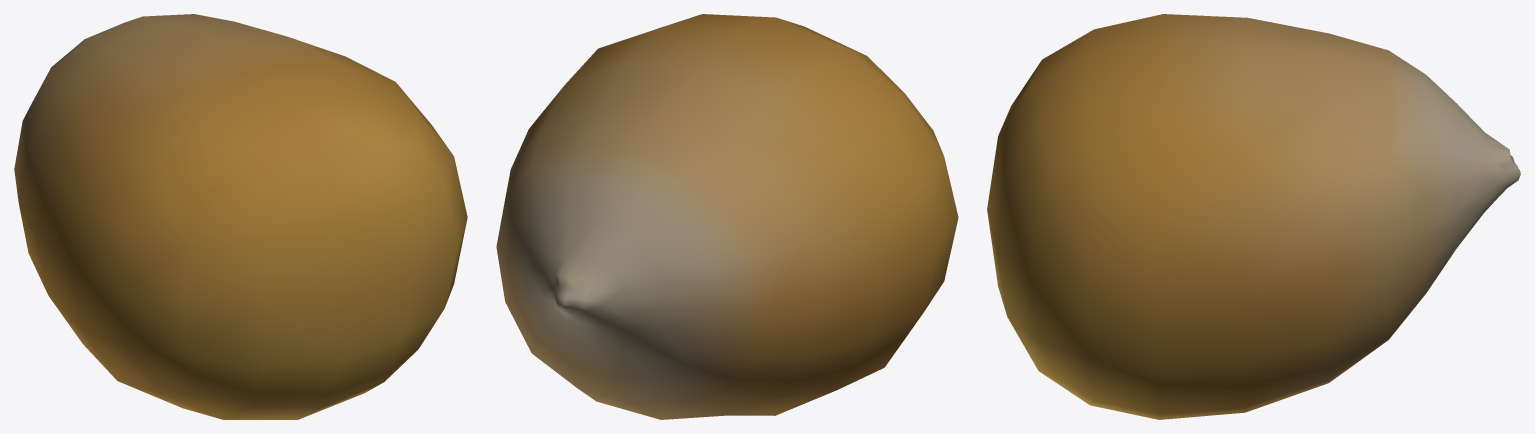
The picture shows the model from 3 angles, left to right: view 1: azimuth 30°, elevation 25°; view 2: azimuth 150°, elevation 25°; view 3: azimuth 270°, elevation 25°; orthographic projection. The views are drawn at different scales.
Visible parts, largest first — view 1: alt2.347; view 2: alt2.347; view 3: alt2.347.
Boxes of the visible parts, x1=… form: alt2.347: x1=14, y1=14, x2=467, y2=419; alt2.347: x1=496, y1=14, x2=958, y2=419; alt2.347: x1=987, y1=14, x2=1520, y2=419.
Bounding box in the file's own units: 0.4148 × 0.3628 × 0.5.
